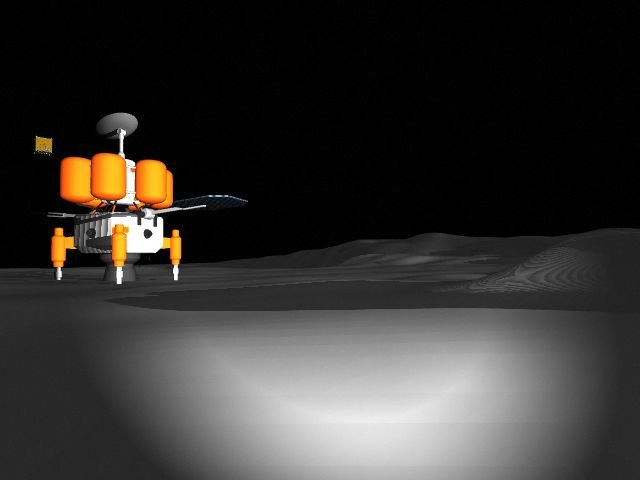cubesat: (30, 134, 53, 157)
